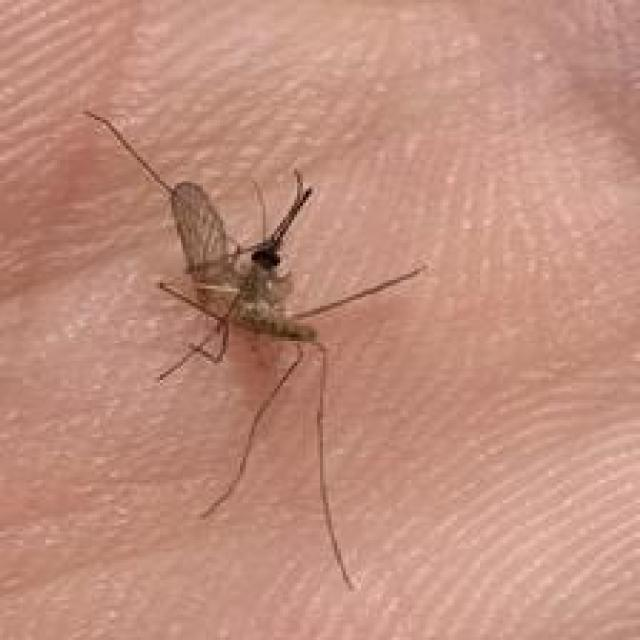Culex: (80, 107, 429, 590)
